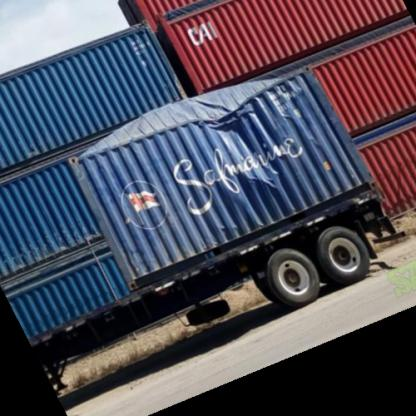Damage: (69, 78, 333, 189)
